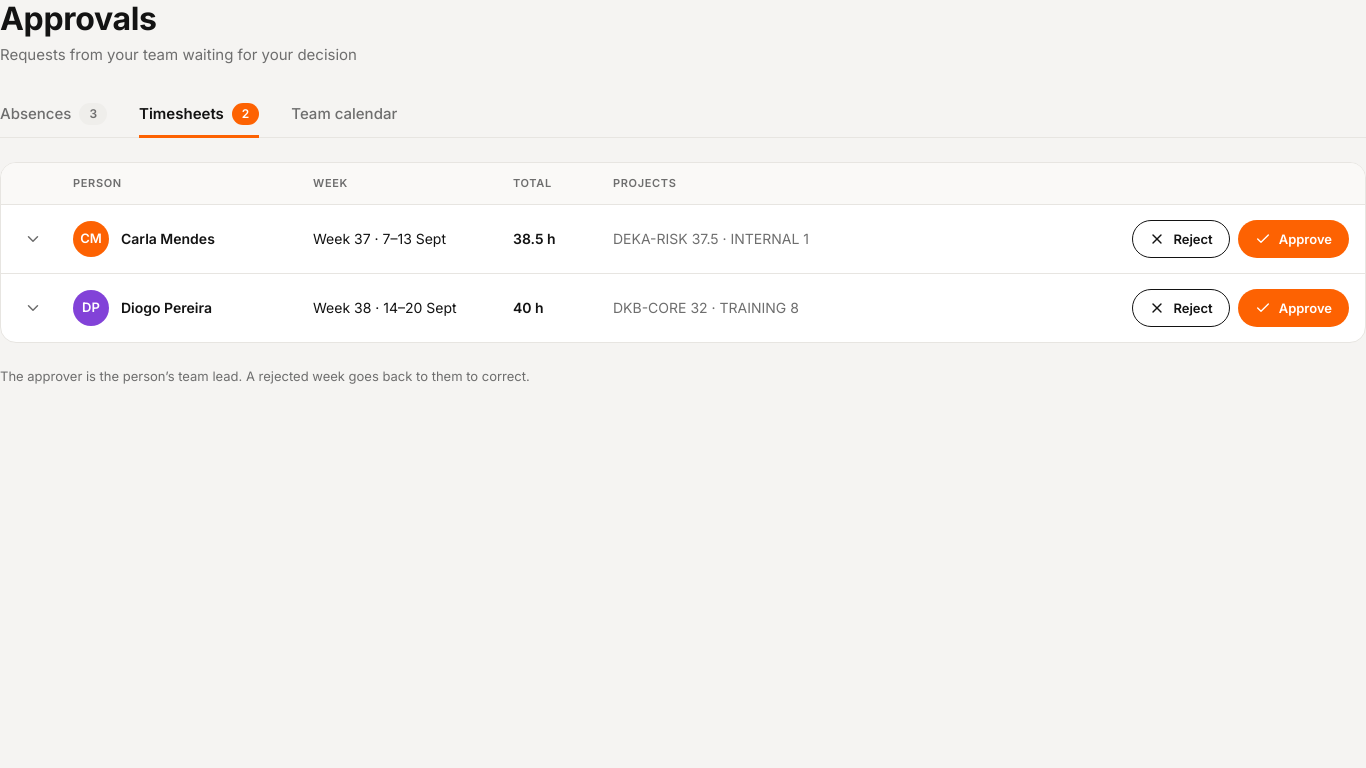
Test case: ApprovalsView, Timesheets tab › asks for a comment before rejecting
expect the element showing "Absences 3 Timesheets 2 Team calendar" is shown: met, box 0,91 -> 1365,138
Click the button "Reject" in the row of "DP". click: (1181, 308)
box: 1132,289 -> 1230,327
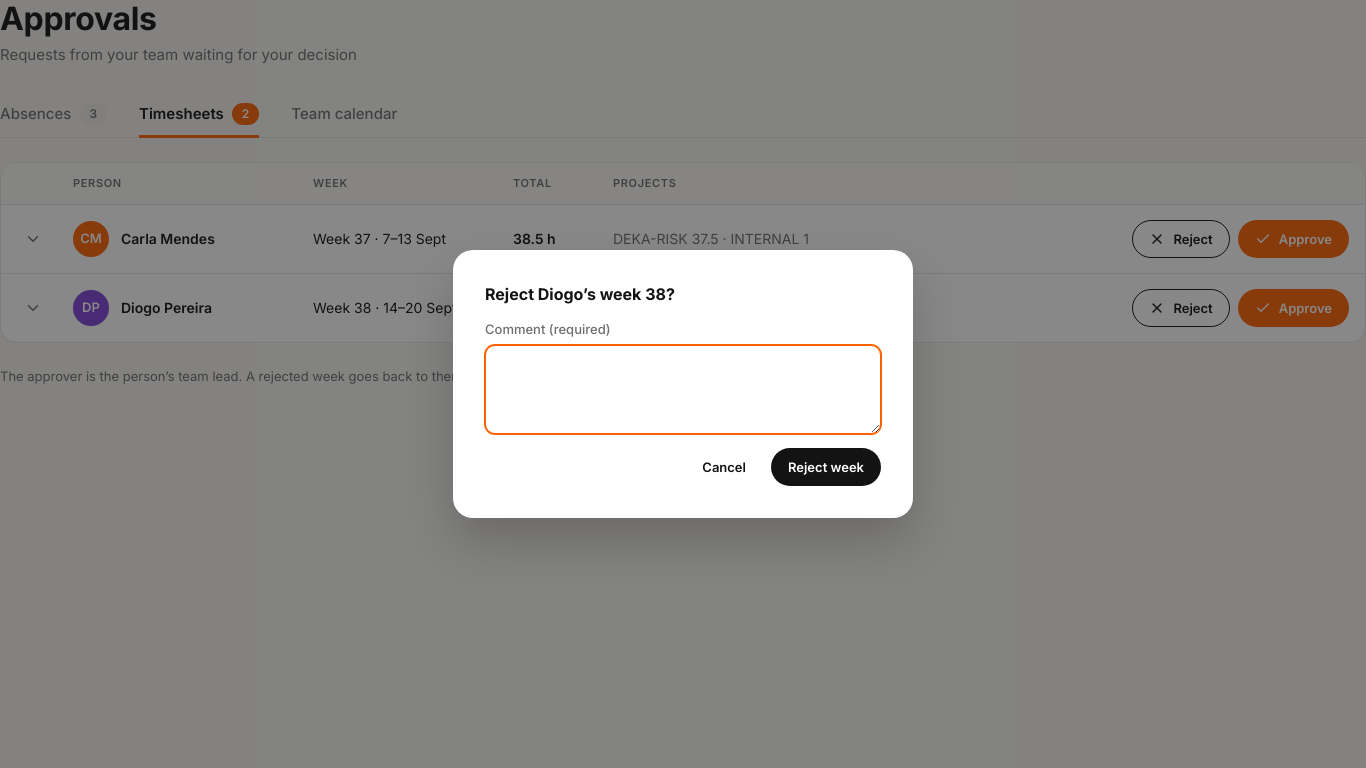
expect the heading "Reject Diogo’s week 38?" is shown: met, box 485,284 -> 675,304
Submit the form, box 485,282 -> 881,486
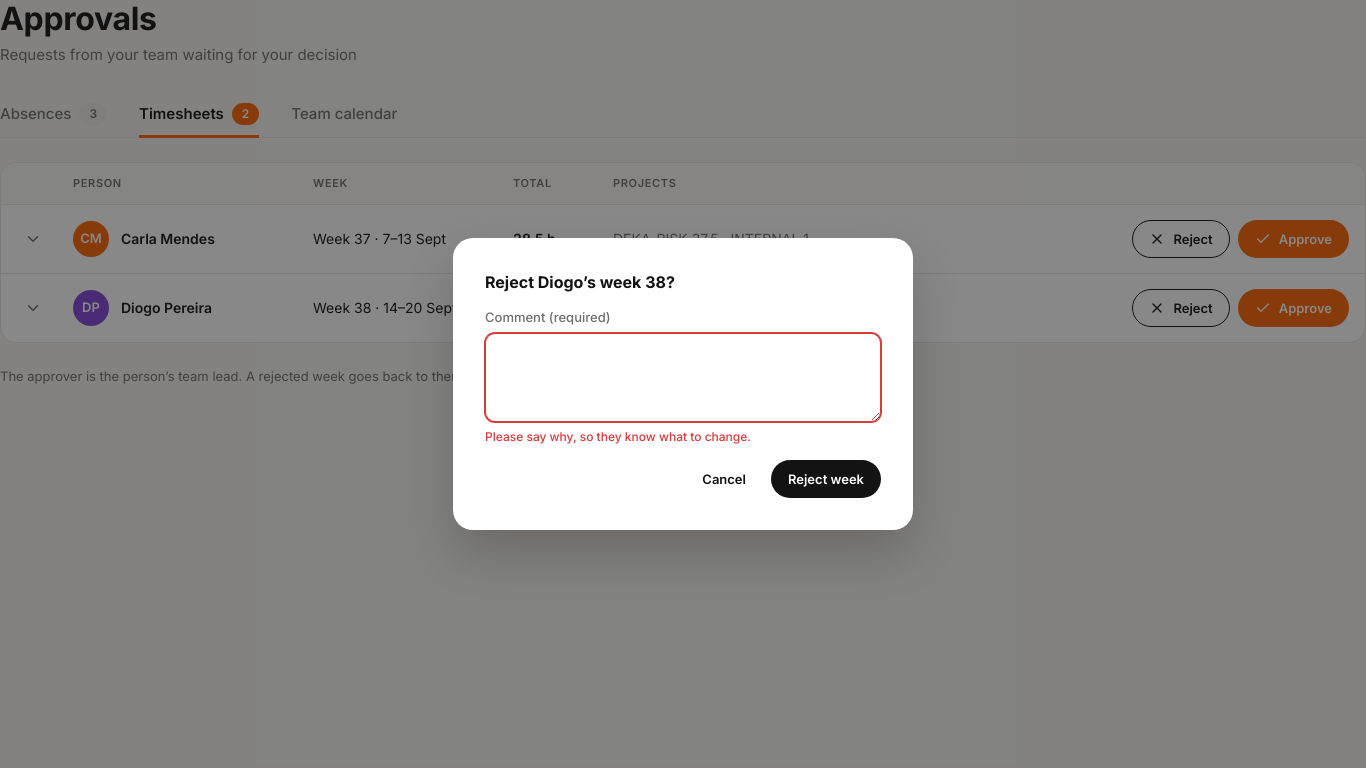
expect the text with class "field__error" reads "Please say why, so they know what to change.": met, box 485,429 -> 751,444
